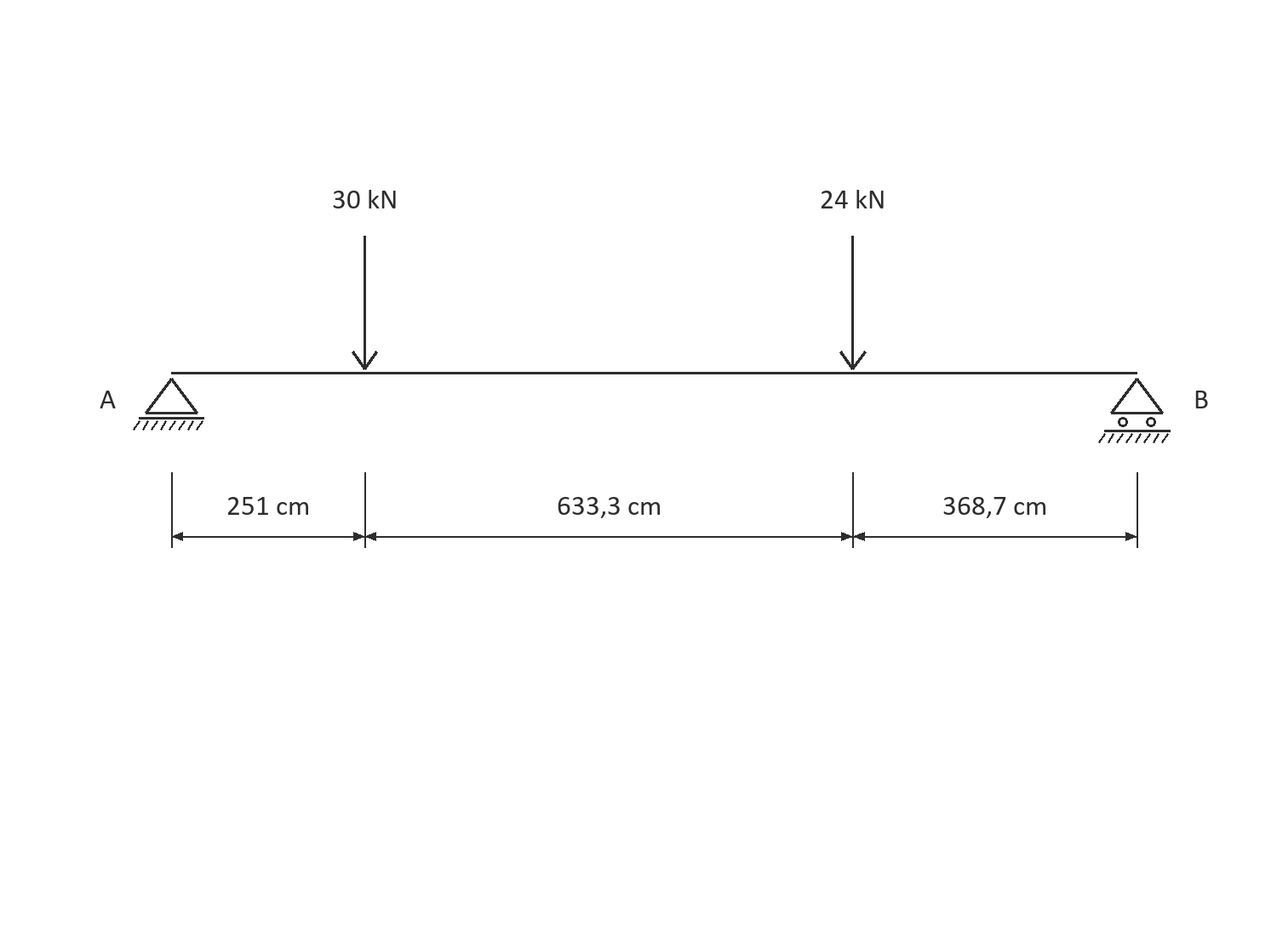pin_support: (133, 378, 204, 431)
point_load: (839, 236, 867, 370), (352, 236, 378, 370)
roller_support: (1098, 378, 1171, 443)
